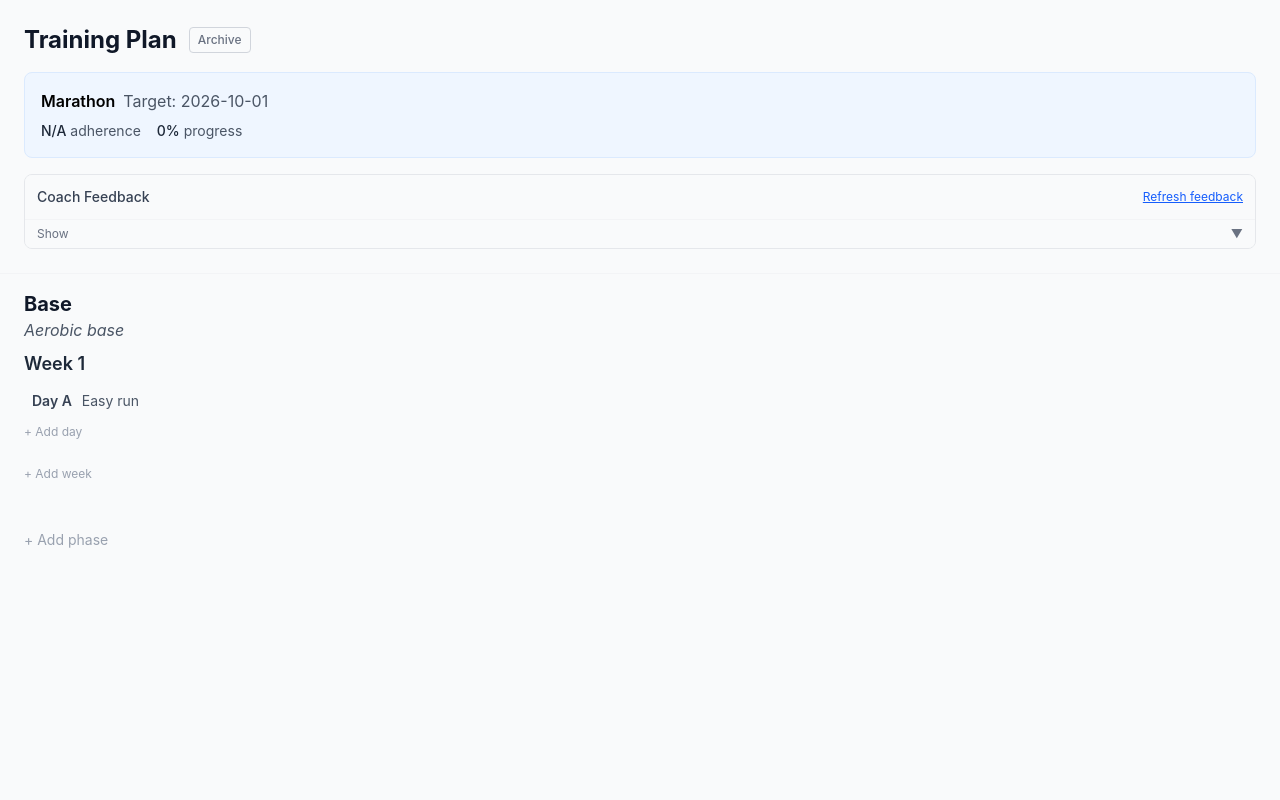
TrainingPlan — UX-COACHING-02: Coach Feedback panel non-expandable when no feedback › feedback content shows paragraph spacing
The width and height of the screenshot is (1280, 800).
# Click Show to expand
What coordinates should you click on to do the following:
click the text "Show"
I would click on:
 (53, 234)
Its box is [37, 226, 69, 242].
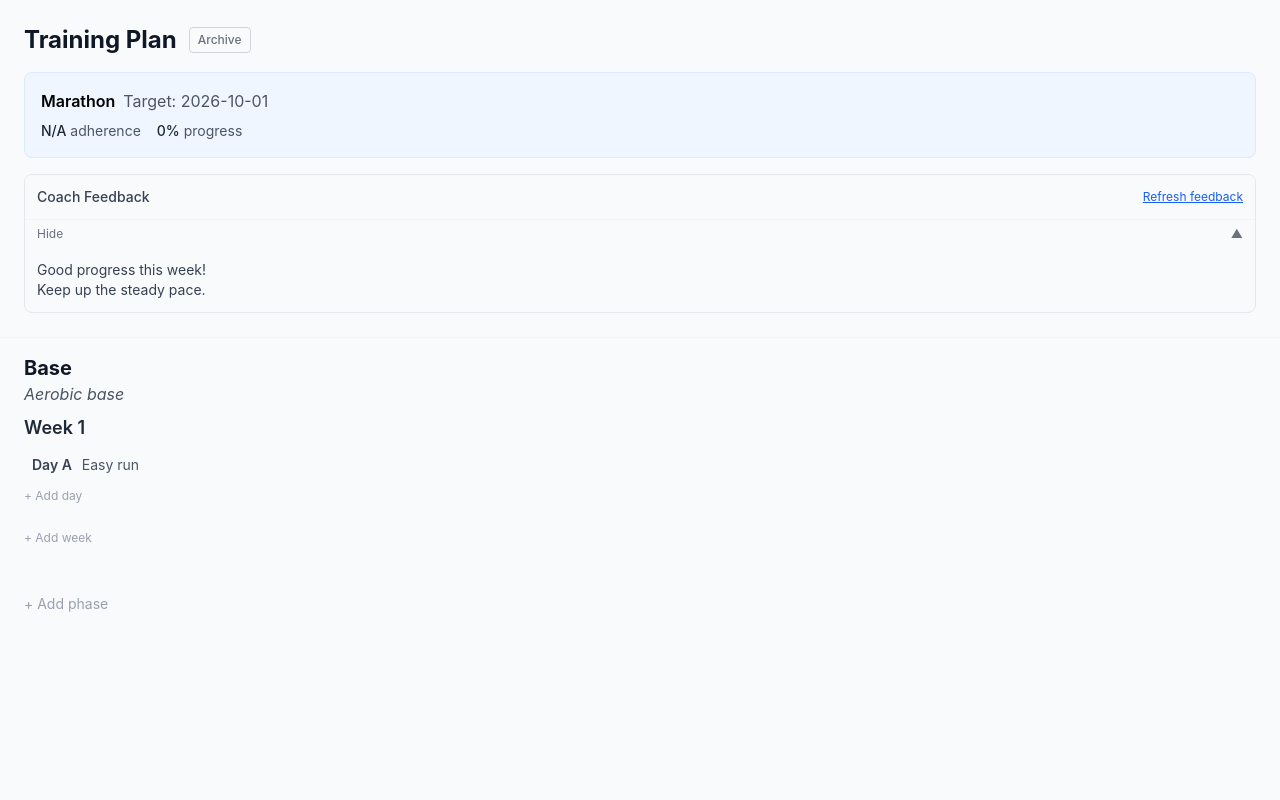
Check: the text "Good progress this week!" is shown, box [37, 261, 206, 278]
Check: the text "Keep up the steady pace." is shown, box [37, 281, 206, 298]
